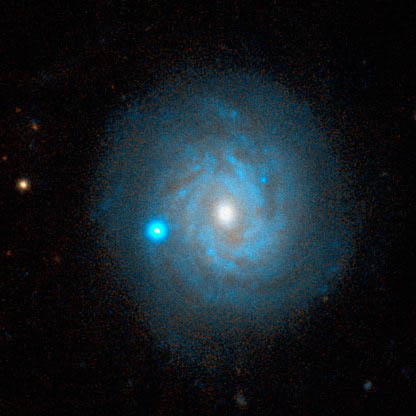NGC 3982: (93, 54, 367, 367)
